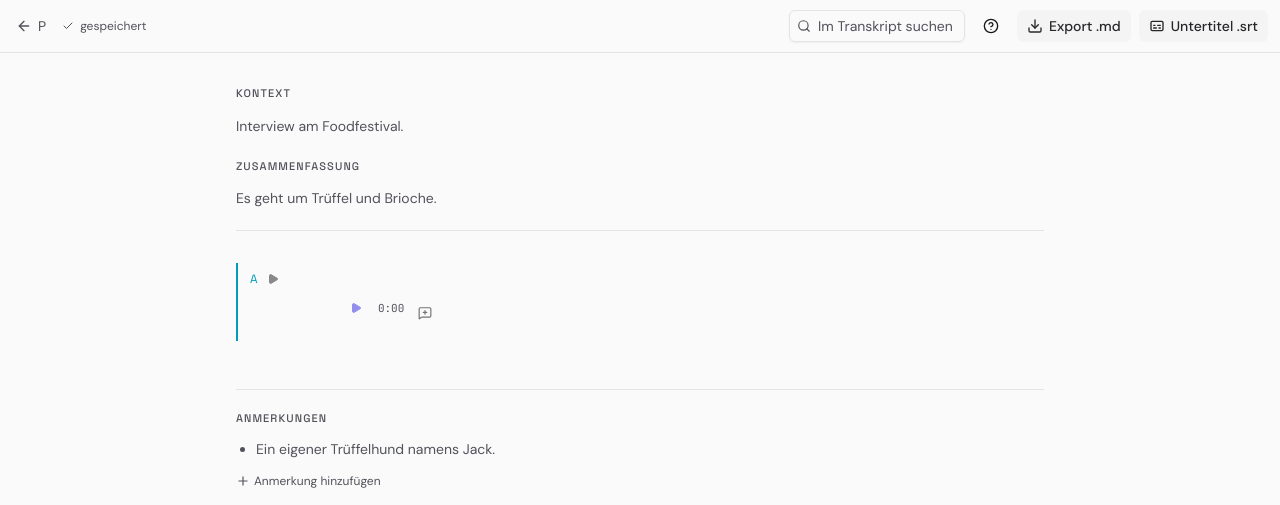
Test case: EditorView Suche in Kopf/Anmerkungen (#128) › Treffer in der Zusammenfassung: Ring aufs Feld, Segmente ausgegraut, Zähler 1/1
In the field with placeholder "Im Transkript suchen …": x=877, y=26 x1=789 y1=10 x2=965 y2=42, type "brioche"
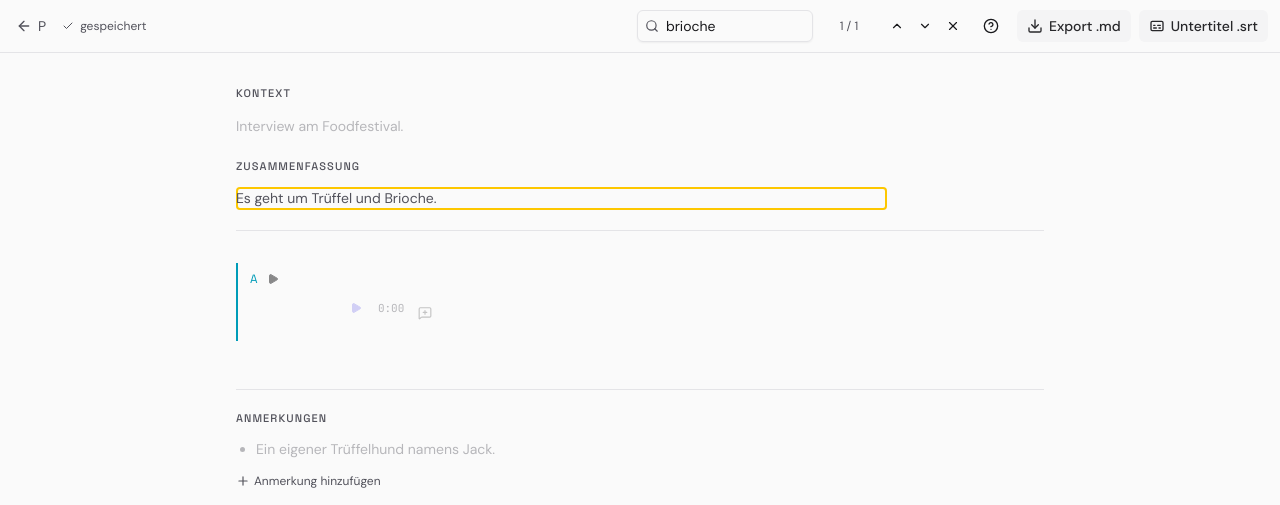
Expected: the text "1 / 1" is shown, x1=840 y1=18 x2=858 y2=34
